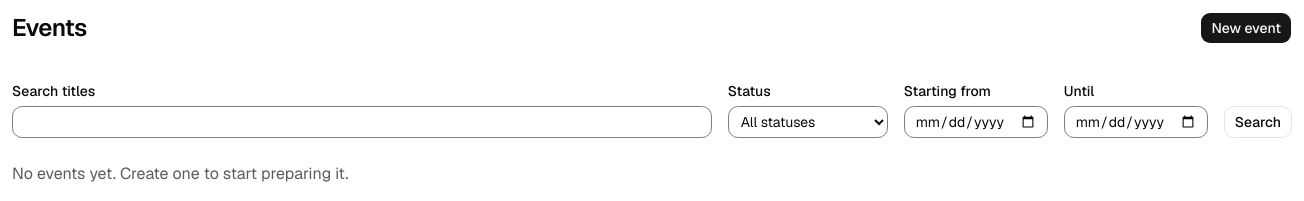
Test case: EventsPage › searches and filters by status
This screenshot has width=1304, height=201.
Check: the text "No events yet. Create one to start preparing it." is shown, box [12,163,348,184]
Type "launch" into the field labelled "Search titles" at (362, 122), box [12,106,712,138]
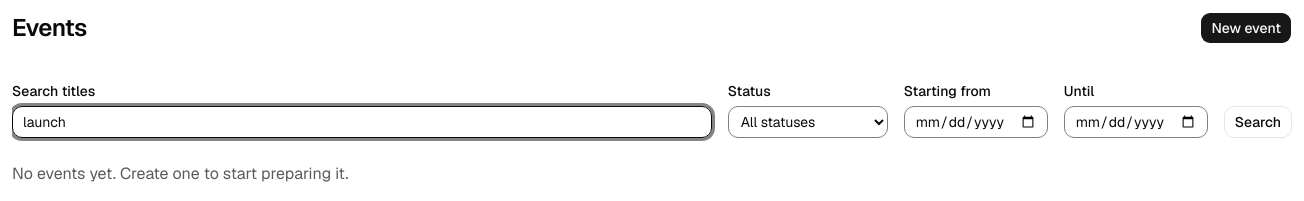
Select "Ready" in the dropdown labelled "Status" at (808, 122), box [728,106,888,138]
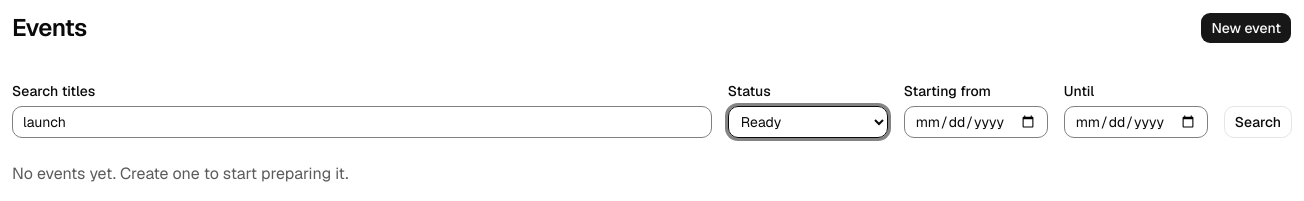
Click the button "Search" at (1258, 122), box [1224,106,1292,138]
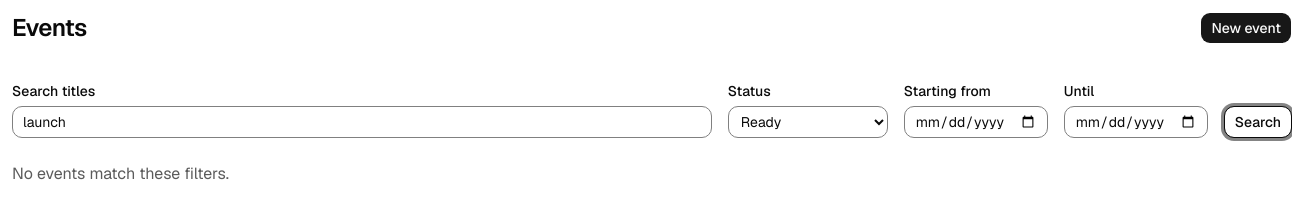
Check: the text "No events match these filters." is shown, box [12,163,229,184]
